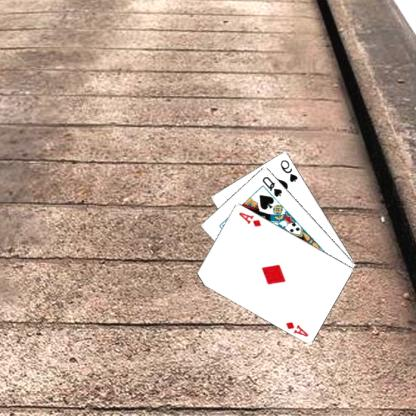9S: (279, 157, 301, 183)
AD: (238, 209, 264, 228), (285, 319, 311, 337)
QS: (262, 173, 285, 198)
